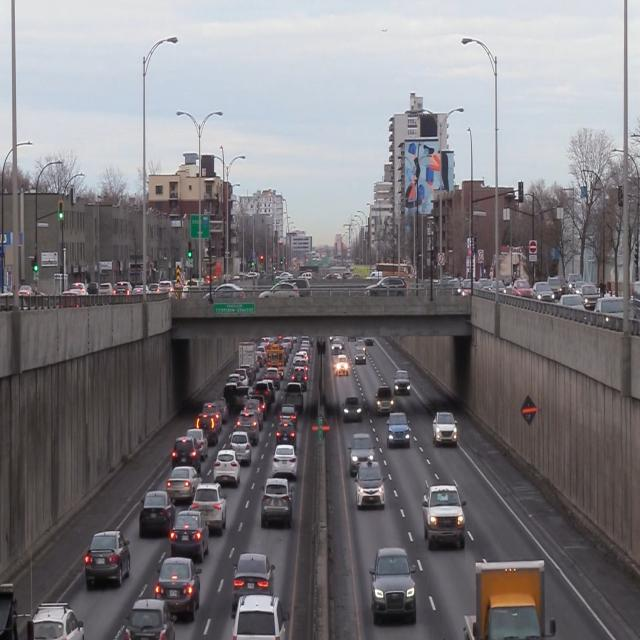Car: (368, 546, 416, 627), (229, 550, 274, 614), (155, 558, 202, 618), (84, 528, 130, 588), (422, 484, 464, 548), (169, 510, 208, 558), (190, 482, 225, 532), (260, 478, 294, 529), (138, 491, 172, 538), (356, 456, 384, 511), (170, 434, 201, 472), (349, 433, 372, 476), (168, 467, 196, 502), (211, 451, 240, 483), (270, 444, 297, 478), (386, 412, 409, 450), (432, 412, 456, 448), (229, 432, 250, 466), (374, 386, 393, 416), (342, 396, 361, 424), (394, 370, 409, 395)
